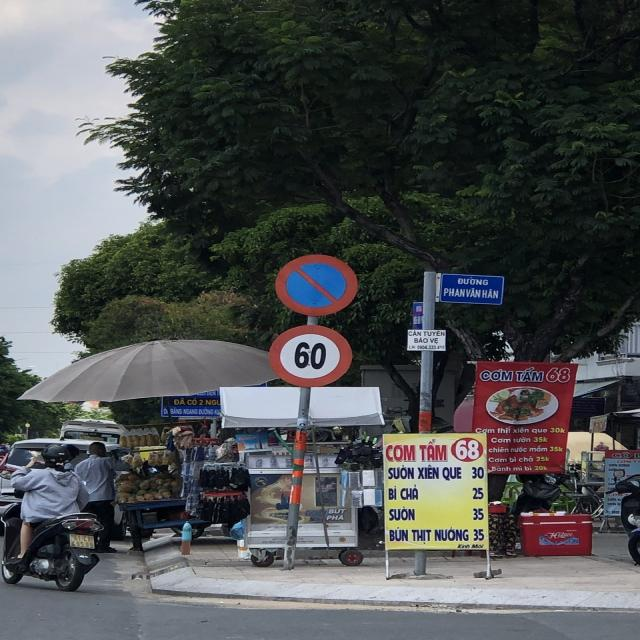Bien bao cam do xe: (267, 245, 363, 323)
Bien bao toc do toi da cho phep: (268, 322, 356, 392)
